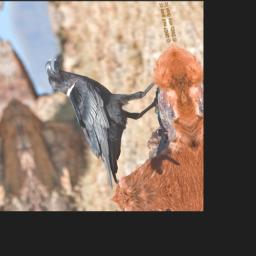Crow: (41, 44, 180, 197)
